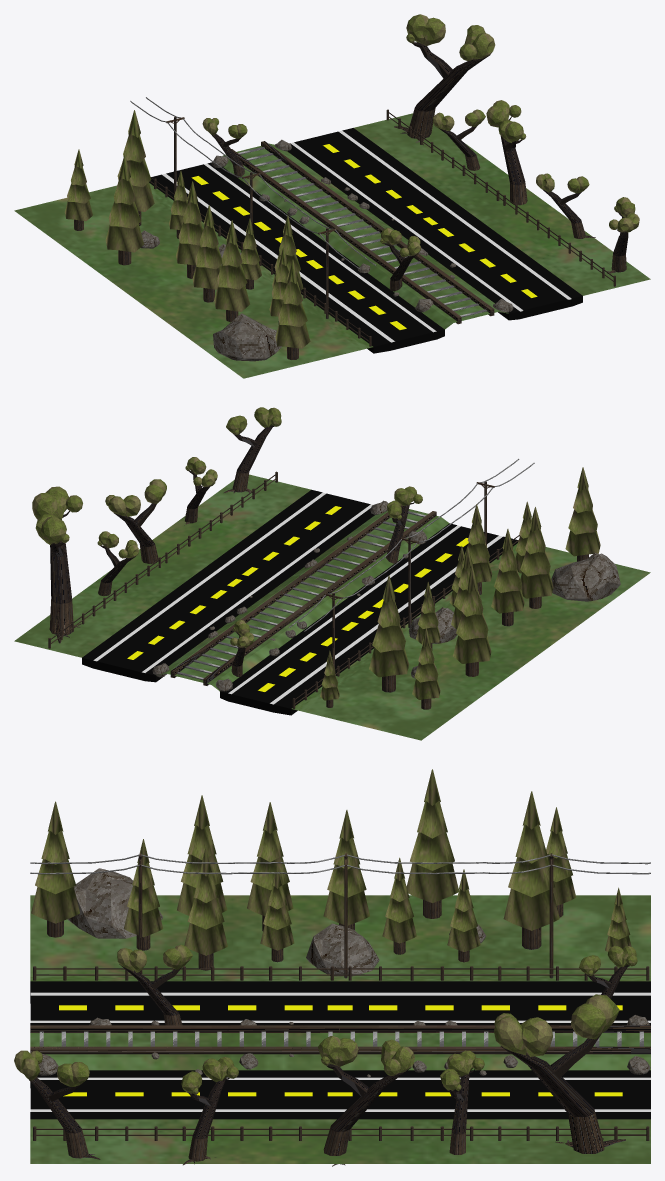
The model's file is planotexturas.glb.
3 views of the same model, one above another, from view 1: azimuth 30°, elevation 25°; view 2: azimuth 150°, elevation 25°; view 3: azimuth 270°, elevation 25° (orthographic). The views are drawn at different scales.
Parts seen in each view (by area): view 1: calle; view 2: calle; view 3: calle.
Boxes of the visible parts, x1=… form: calle: x1=14, y1=14, x2=650, y2=378; calle: x1=14, y1=407, x2=650, y2=740; calle: x1=14, y1=769, x2=650, y2=1166.
Bounding box in the file's own units: 17.15 × 5.09 × 16.27.
8 materials, 5 textured.
